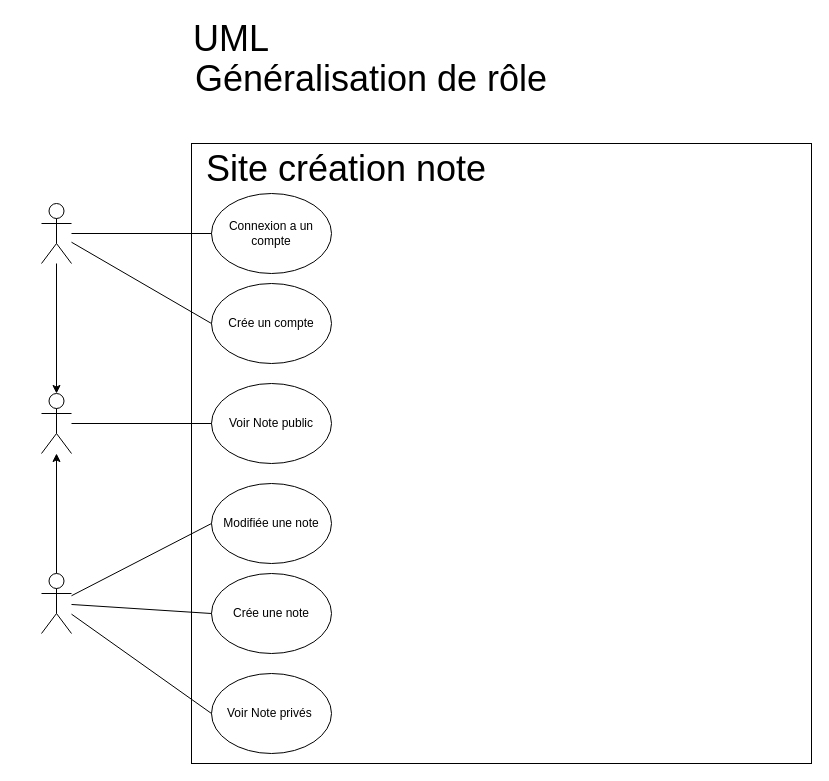
Some shapes in this 829 by 781 pixel diagram are drawn without their labels. Here are the shapes that lost their labels. From the top down, the centre of each, then its label:
At pixel 56 233: "Future Visiteur".
At pixel 56 423: "Visiteur".
At pixel 56 603: "client".
